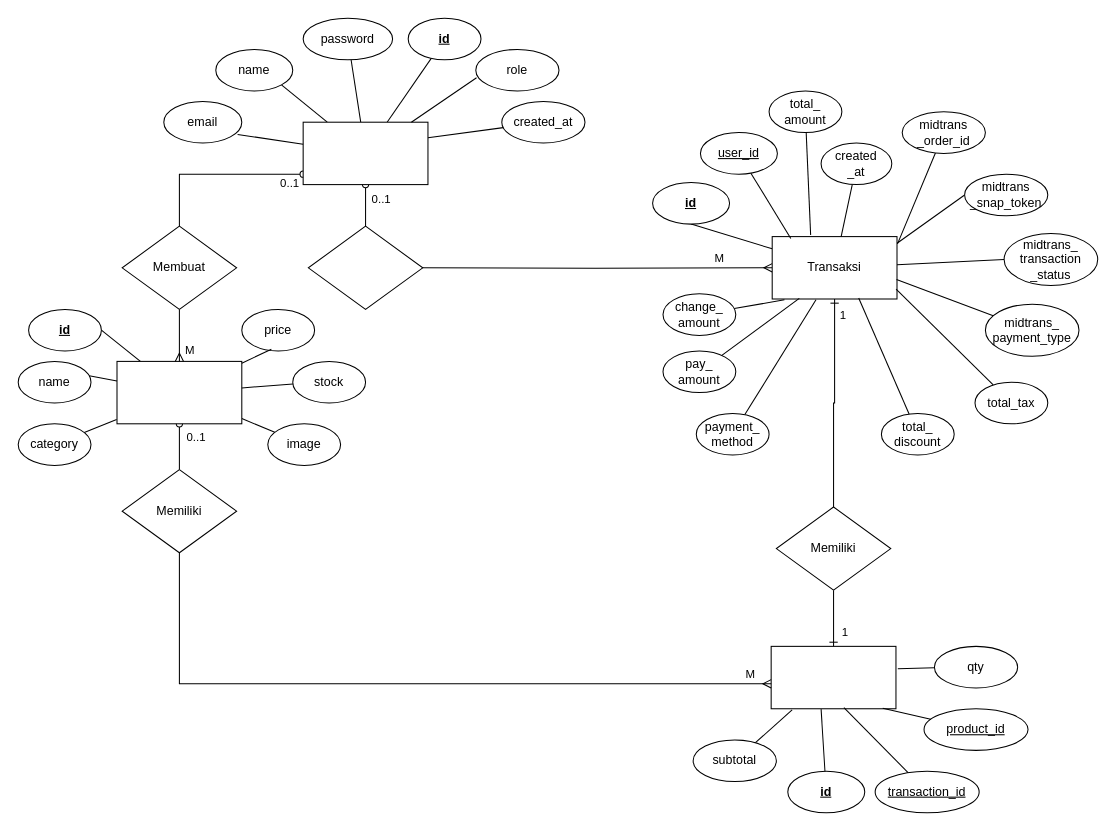
The diagram is 1116 pixels wide and 831 high, and some of its shapes have lost their labels. Each missing label, with the centre of its shape:
Detail Transaksi: the point at 833,677
Melakukan: the point at 365,267
Pengguna: the point at 365,153
Produk: the point at 179,392
